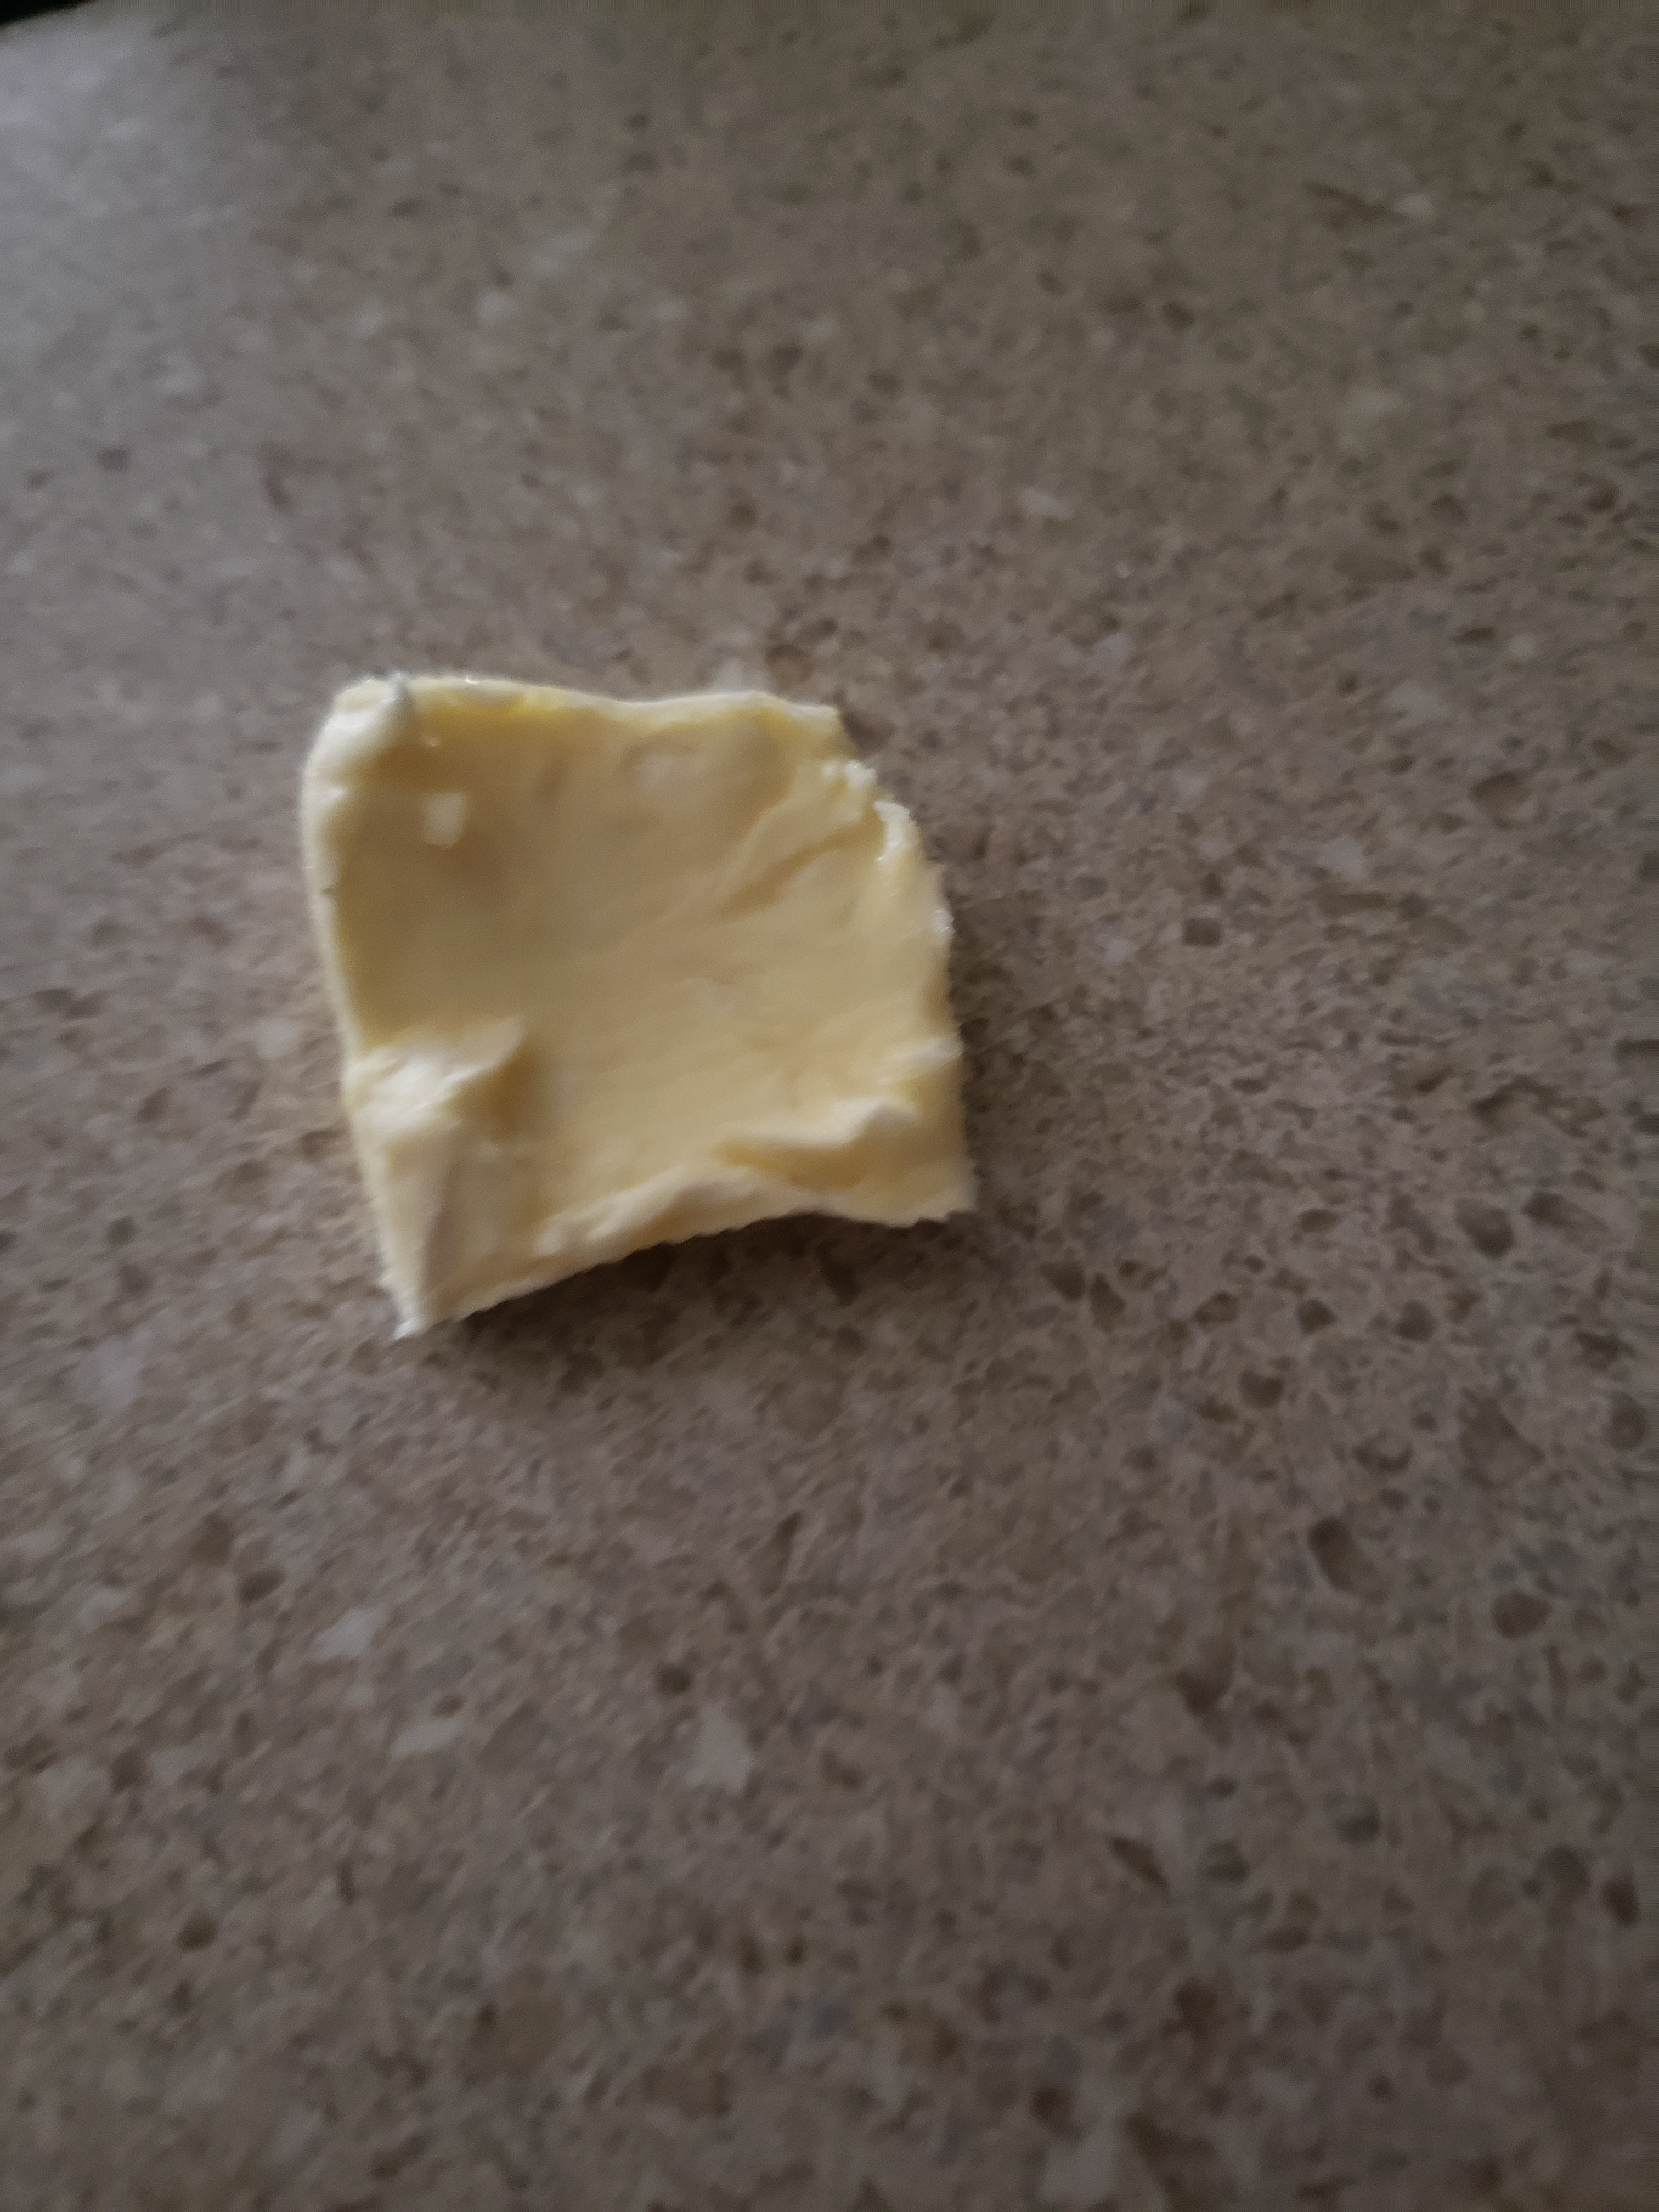Butter: (298, 674, 985, 1331)
